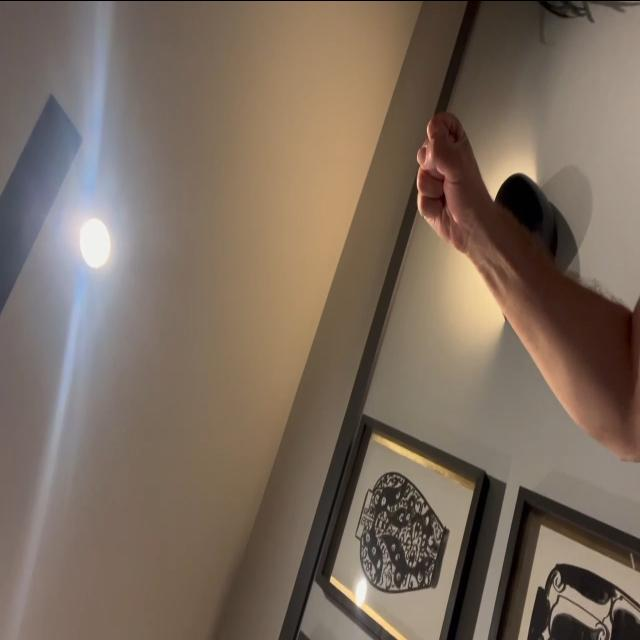Rock: (414, 108, 484, 254)
